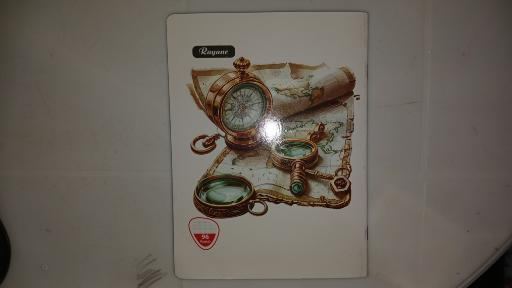notebook: (172, 12, 369, 279)
